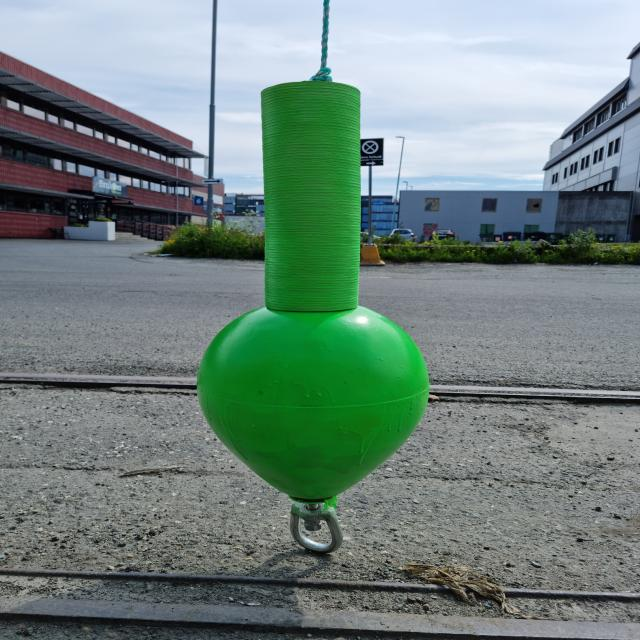green: (193, 82, 431, 502)
